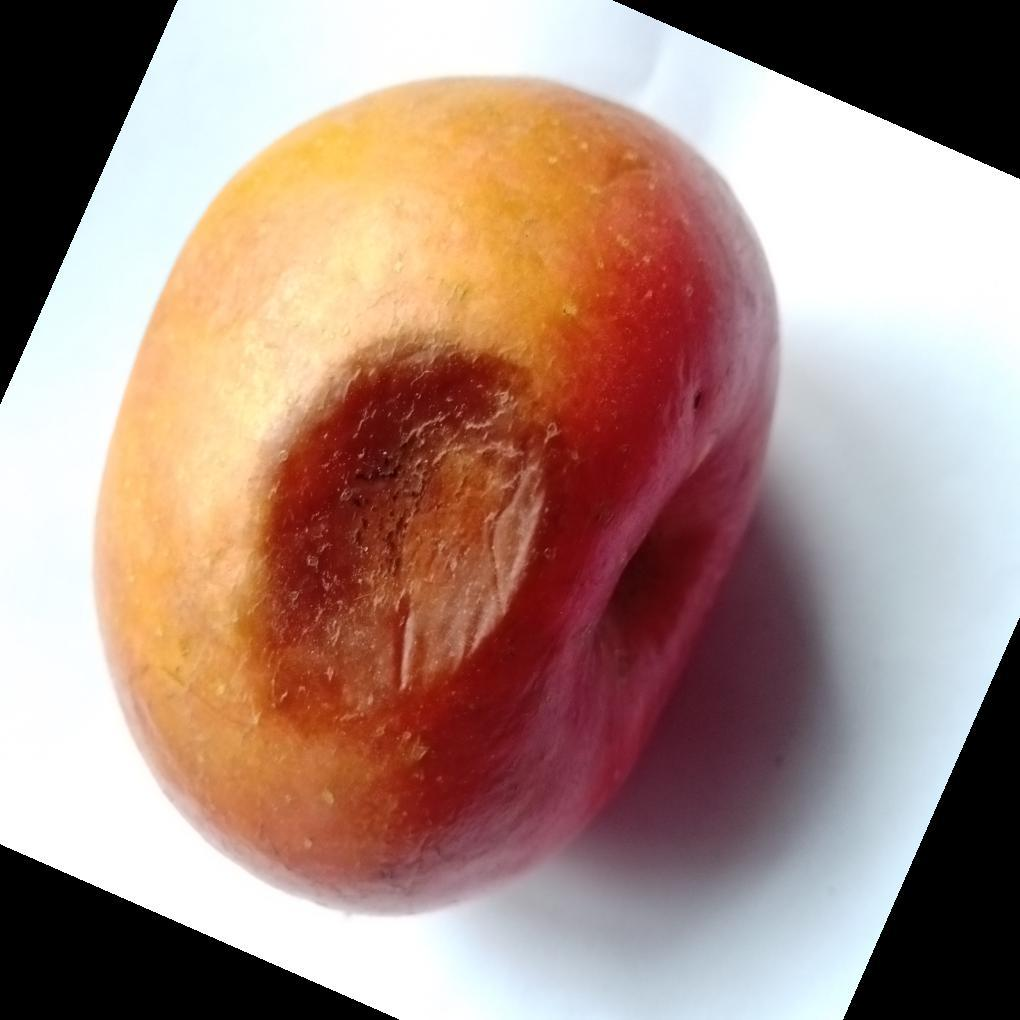FreshOrange: (88, 75, 782, 922)
